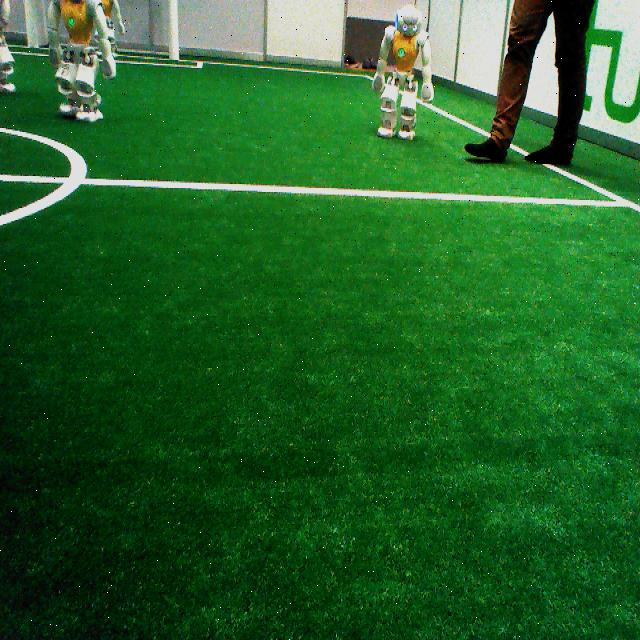goalpost: (167, 2, 180, 58), (23, 0, 38, 48)
